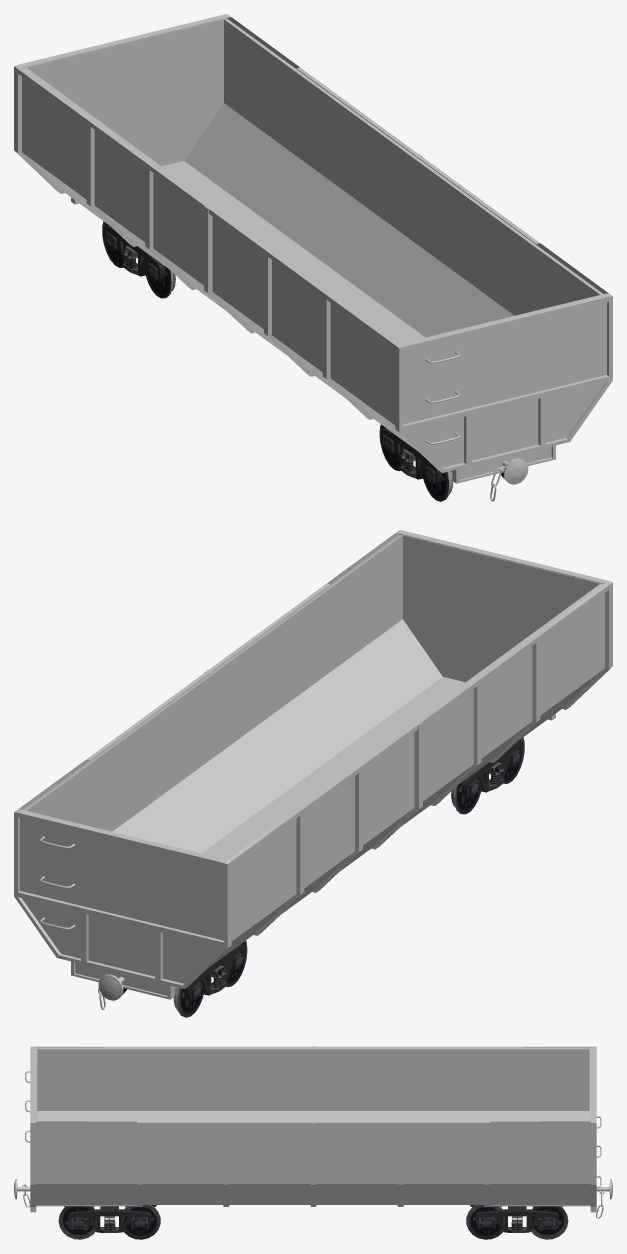
File: soviet_torp_wagon.obj
3 views of the same model, one above another, from view 1: azimuth 30°, elevation 25°; view 2: azimuth 150°, elevation 25°; view 3: azimuth 270°, elevation 25° (orthographic). The views are drawn at different scales.
Parts seen in each view (by area): view 1: TorpWagonBodyFull, Bogey1, Bogey2; view 2: TorpWagonBodyFull, Bogey2, Bogey1; view 3: TorpWagonBodyFull, Bogey2, Bogey1.
Part boxes in pixels (x1,y1,x2,y2): TorpWagonBodyFull: (14,14,612,501); Bogey1: (379,424,504,501); Bogey2: (102,221,175,298); TorpWagonBodyFull: (14,530,612,1009); Bogey2: (122,940,247,1017); Bogey1: (451,737,524,814); TorpWagonBodyFull: (14,1046,612,1218); Bogey2: (466,1205,568,1239); Bogey1: (58,1205,160,1239).
Size of the model in its own units: 2.2 by 1.89 by 7.23.
